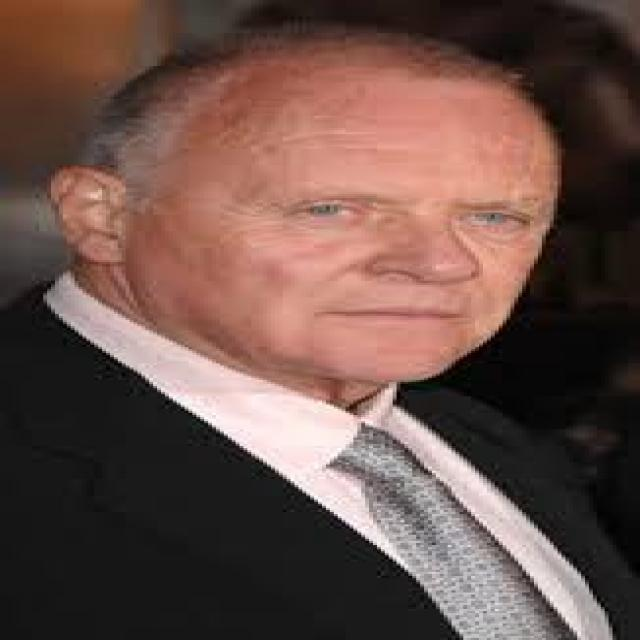person: (16, 24, 608, 626)
